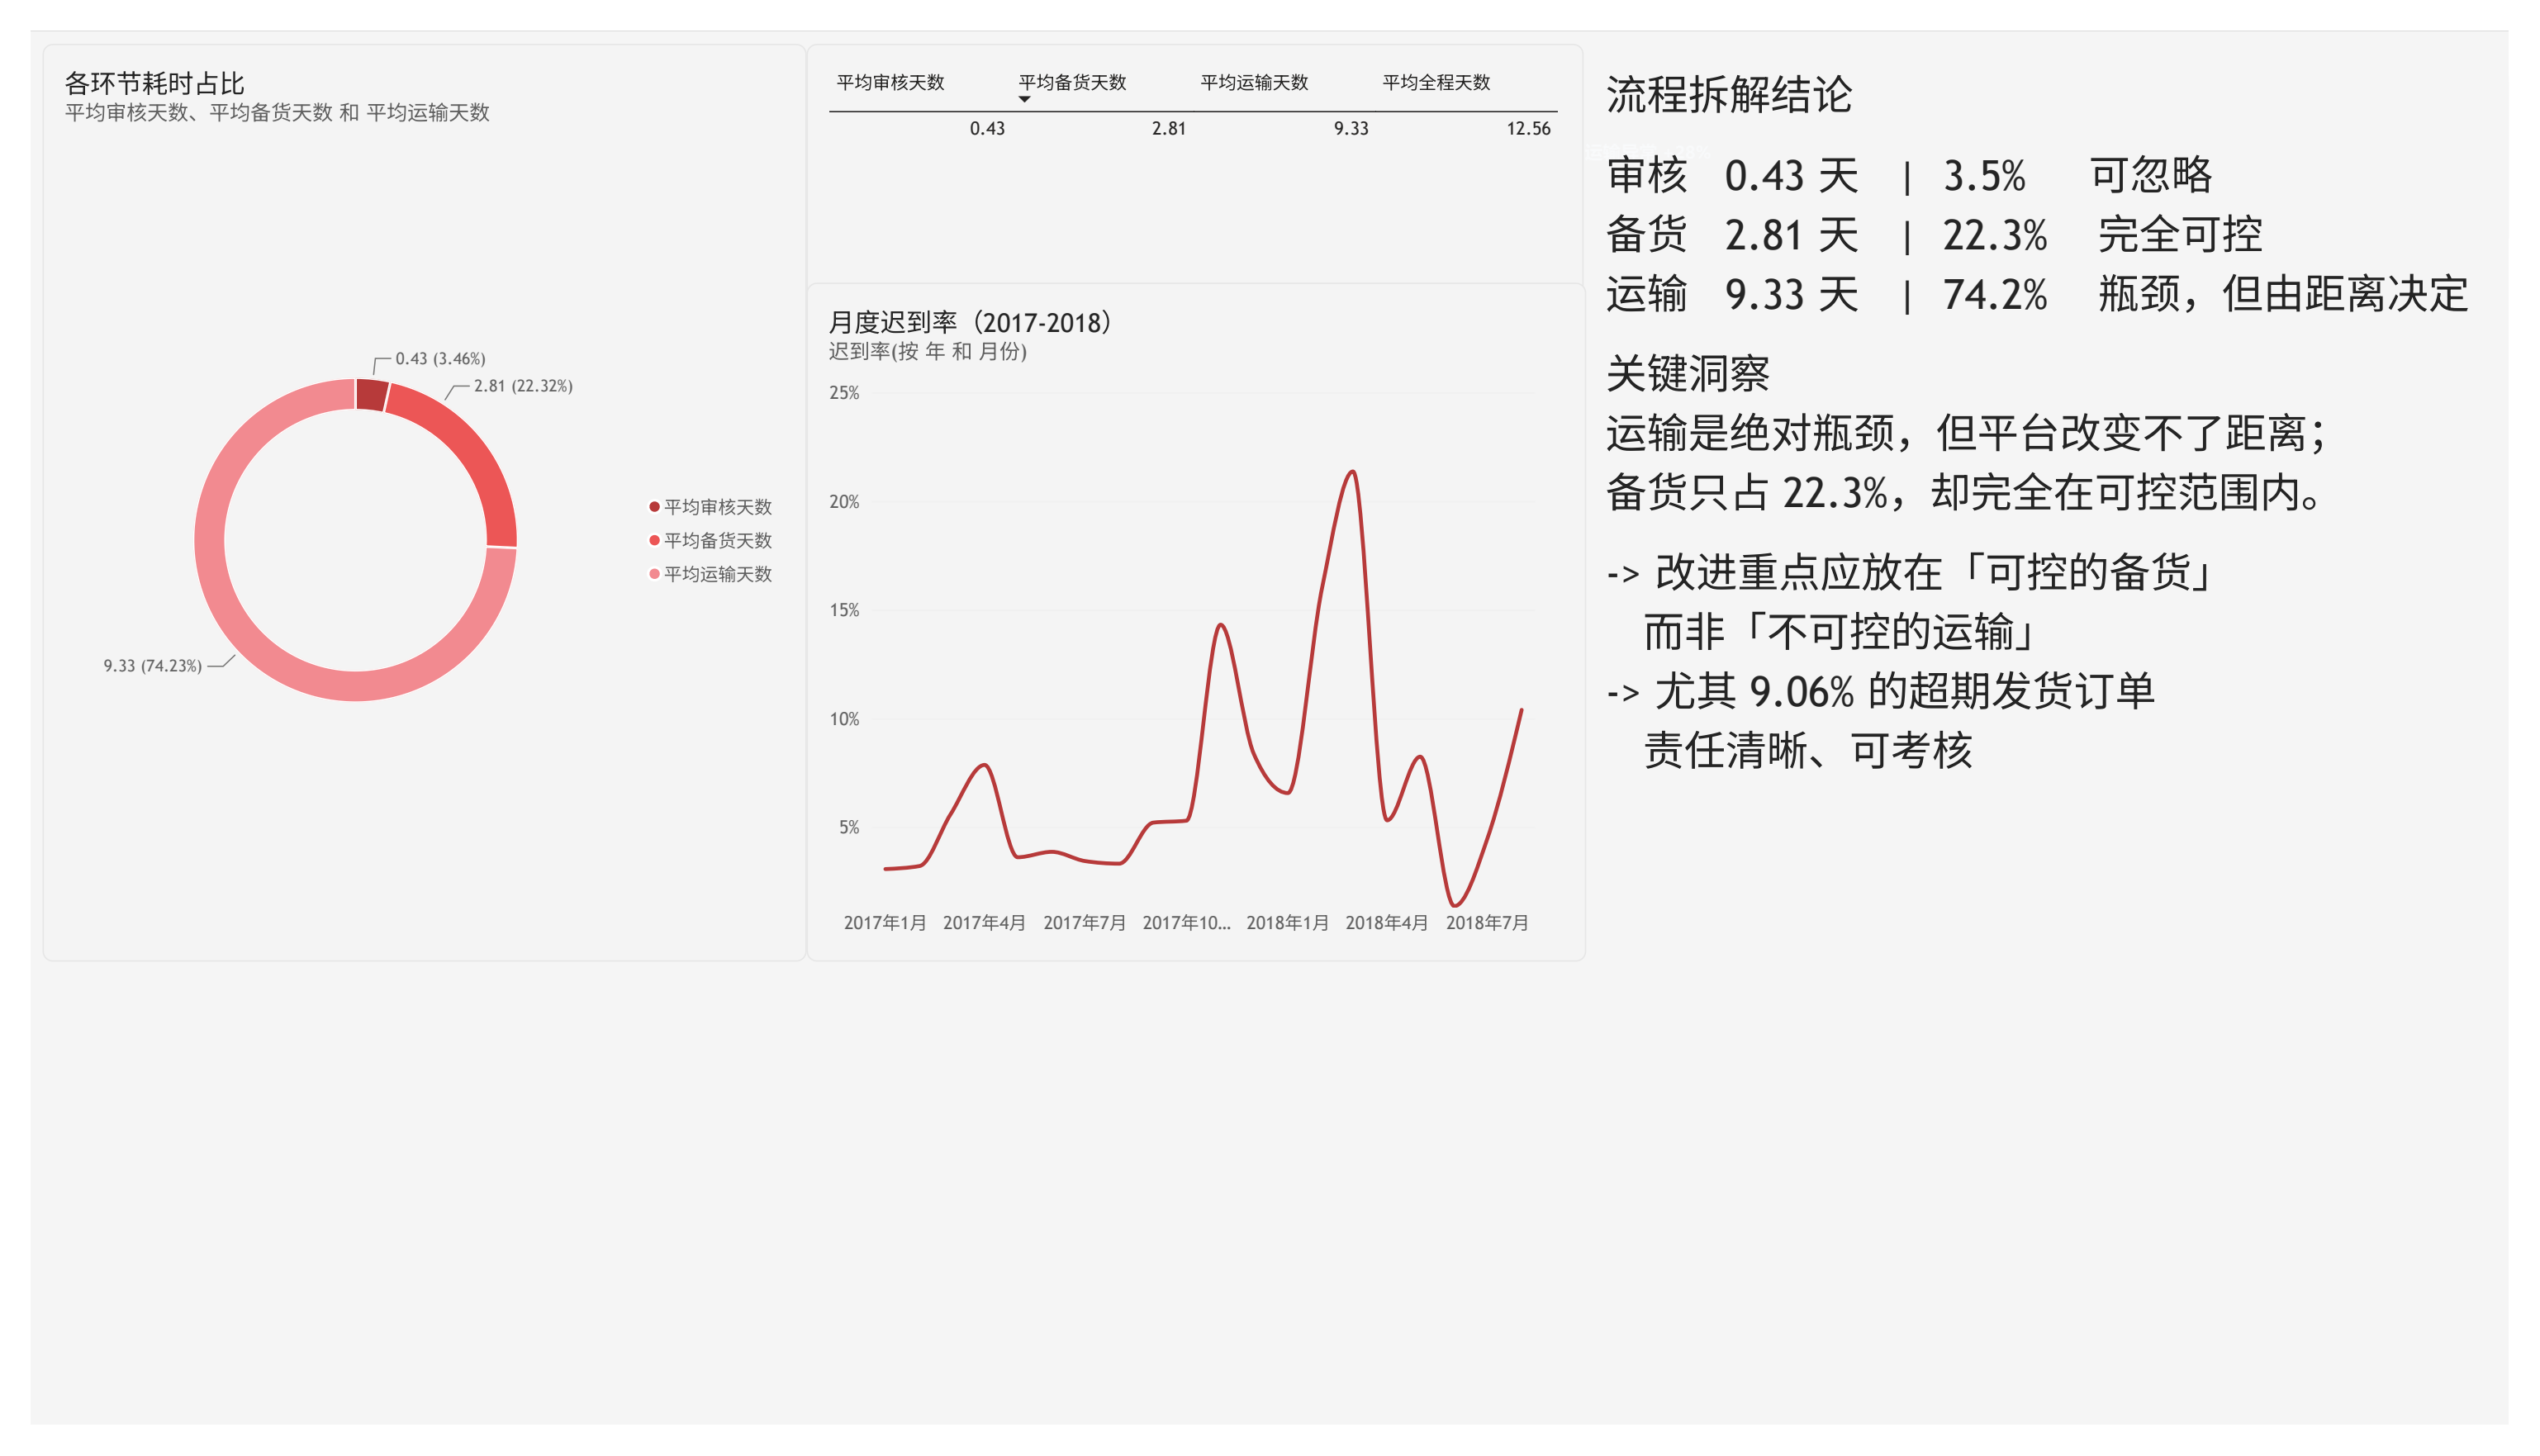

Layout of this report page (visuals, bound fields, positions):
{"tool":"powerbi","page":{"name":"p3流程拆解","canvas":[1920,1080],"ordinal":2},"visuals":[{"type":"donutChart","title":"各环节耗时占比","fields":{"Y":["olist v_pbi_orders.平均审核天数","olist v_pbi_orders.平均备货天数","olist v_pbi_orders.平均运输天数"]},"box":[8.7,10.4,592.7,710.9],"z":0},{"type":"tableEx","fields":{"Values":["olist v_pbi_orders.平均审核天数","olist v_pbi_orders.平均备货天数","olist v_pbi_orders.平均运输天数","olist v_pbi_orders.平均全程天数"]},"box":[601.4,10.4,601.4,219],"z":1000},{"type":"lineChart","title":"月度迟到率（2017-2018）","fields":{"Category":["olist v_pbi_orders.purchase_month.变体.日期层次结构.年","olist v_pbi_orders.purchase_month.变体.日期层次结构.月份"],"Y":["olist v_pbi_orders.迟到率"]},"box":[601.4,194.7,603.1,526.6],"z":2000},{"type":"textbox","box":[649,604,150,350],"z":3000},{"type":"textbox","box":[799,604,395,350],"z":4000},{"type":"textbox","box":[1203.9,84.5,298.7,110.1],"z":5000},{"type":"textbox","box":[1513,64,299,150],"z":5001},{"type":"textbox","box":[1204,604,299,350],"z":5002},{"type":"textbox","box":[1220.1,24.3,700.5,589.2],"z":5003}]}

Visuals, with their boxes on the page's 1920x1080 design canvas (x1, y1, x2, y2). These are canvas units, not pixel positions in the 2540x1456 screenshot, which may show the page scaled, cropped or inside an application window:
"各环节耗时占比" donutChart: rect(9, 10, 601, 721)
tableEx - olist v_pbi_orders.平均审核天数 x olist v_pbi_orders.平均备货天数: rect(601, 10, 1203, 229)
"月度迟到率（2017-2018）" lineChart: rect(601, 195, 1204, 721)
textbox: rect(649, 604, 799, 954)
textbox: rect(799, 604, 1194, 954)
textbox: rect(1204, 84, 1503, 195)
textbox: rect(1513, 64, 1812, 214)
textbox: rect(1204, 604, 1503, 954)
textbox: rect(1220, 24, 1921, 614)
